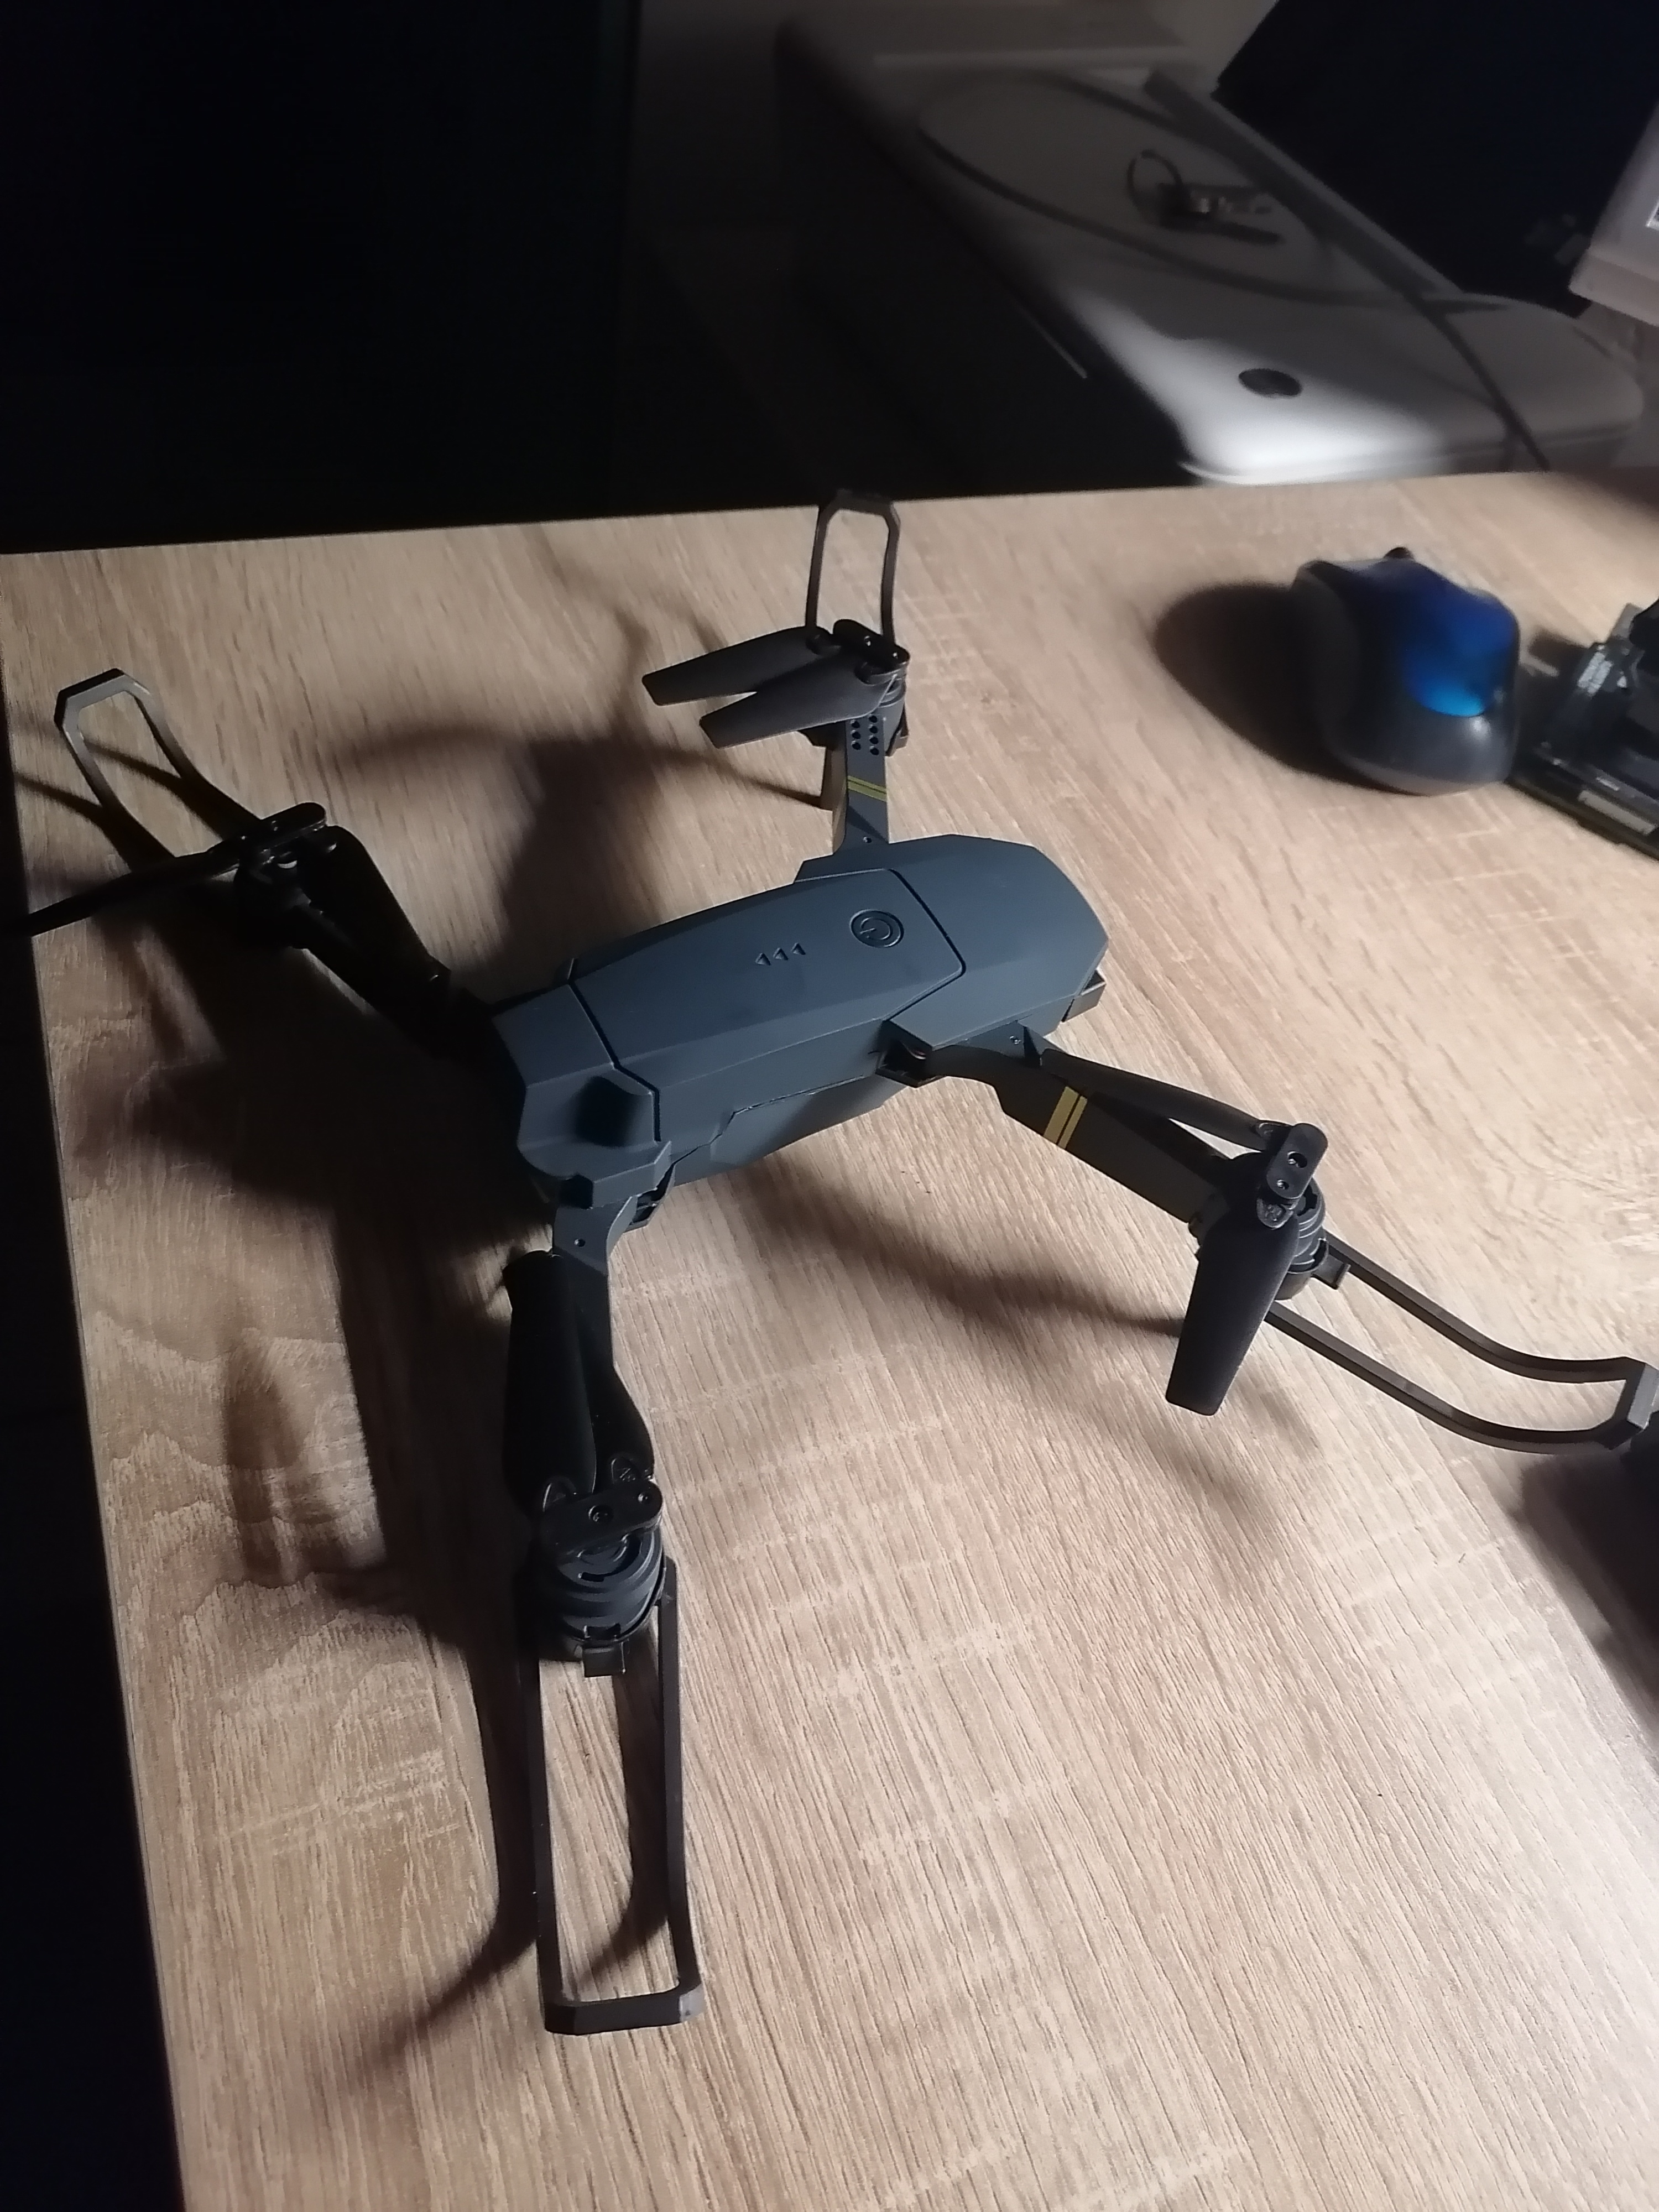drone: (23, 604, 1588, 2064)
